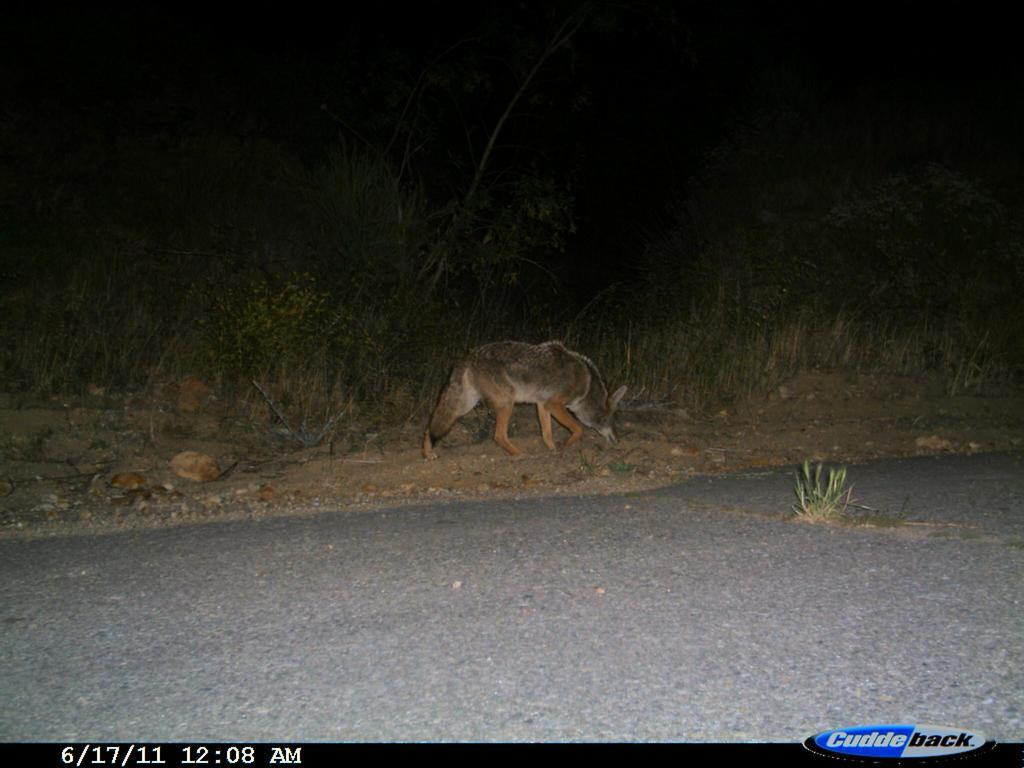coyote: (419, 335, 632, 462)
